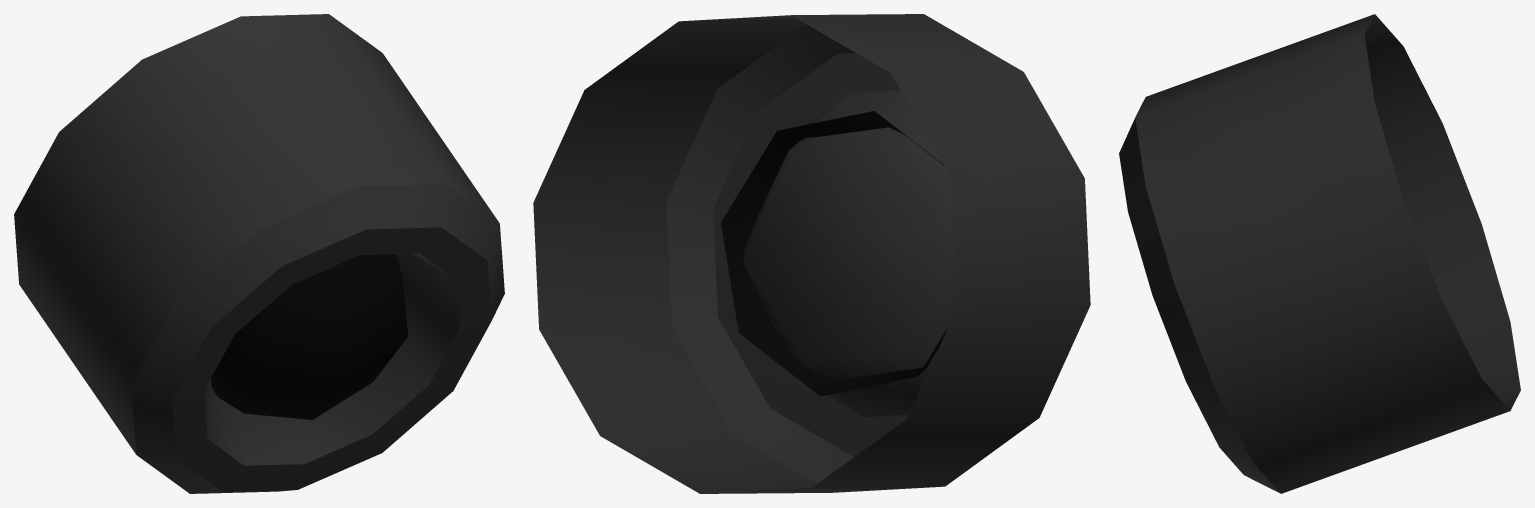
3 views of the same model, side by side, from view 1: azimuth 30°, elevation 25°; view 2: azimuth 150°, elevation 25°; view 3: azimuth 270°, elevation 25° (orthographic). The views are drawn at different scales.
Visible parts, largest first — view 1: Circle.013; view 2: Circle.013; view 3: Circle.013.
Part boxes in pixels (<box>): Circle.013: <box>14,14,504,493</box>; Circle.013: <box>533,14,1090,493</box>; Circle.013: <box>1119,14,1520,493</box>.
Bounding box in the file's own units: 11.1 × 10.57 × 12.71.
